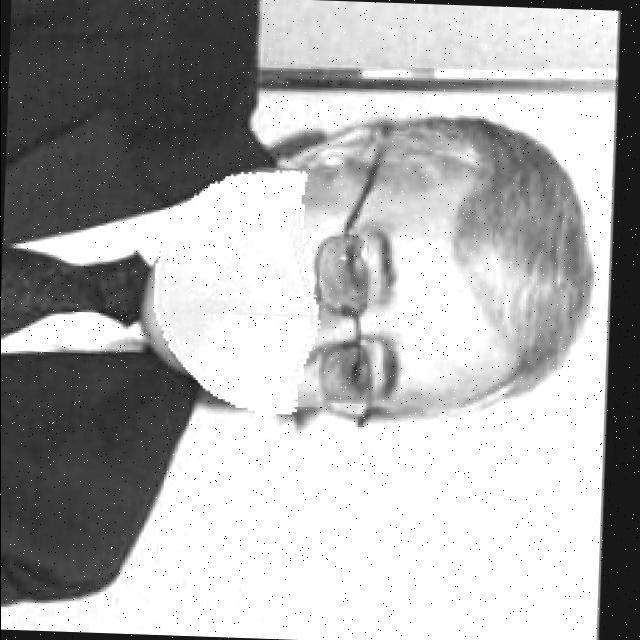mask: (180, 182, 304, 386)
no_gloves: (437, 129, 578, 375)
